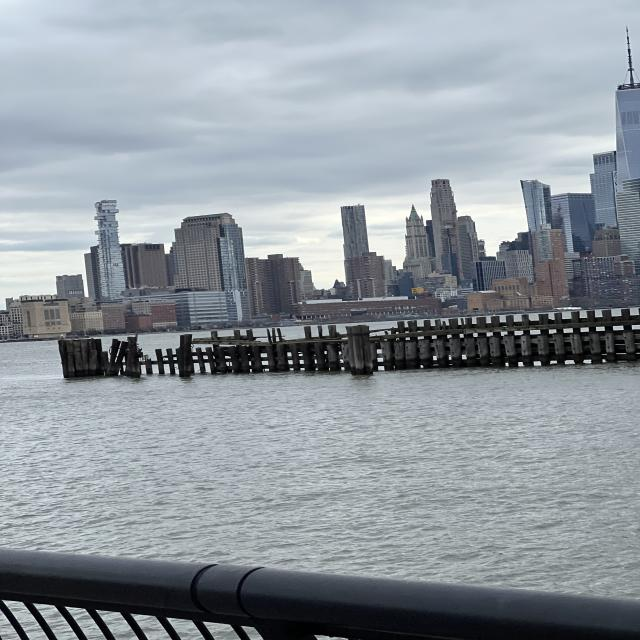WTC: (613, 27, 638, 176)
